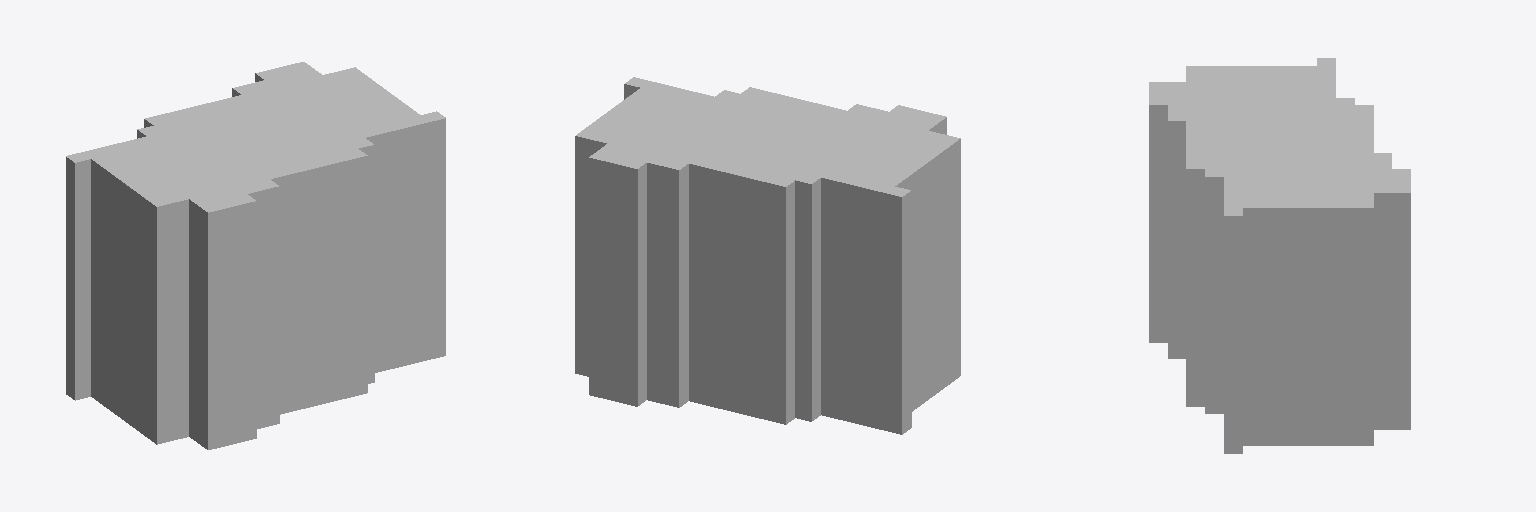
The model's file is Body.obj.
3 renders of one model, left to right at view 1: azimuth 30°, elevation 25°; view 2: azimuth 150°, elevation 25°; view 3: azimuth 270°, elevation 25°, orthographic.
Parts seen in each view (by area): view 1: object 1; view 2: object 1; view 3: object 1.
Boxes of the visible parts, x1=… form: object 1: x1=66, y1=62, x2=445, y2=449; object 1: x1=575, y1=77, x2=960, y2=434; object 1: x1=1149, y1=58, x2=1410, y2=453.
Size of the model in its own units: 2 by 1.4 by 1.4.